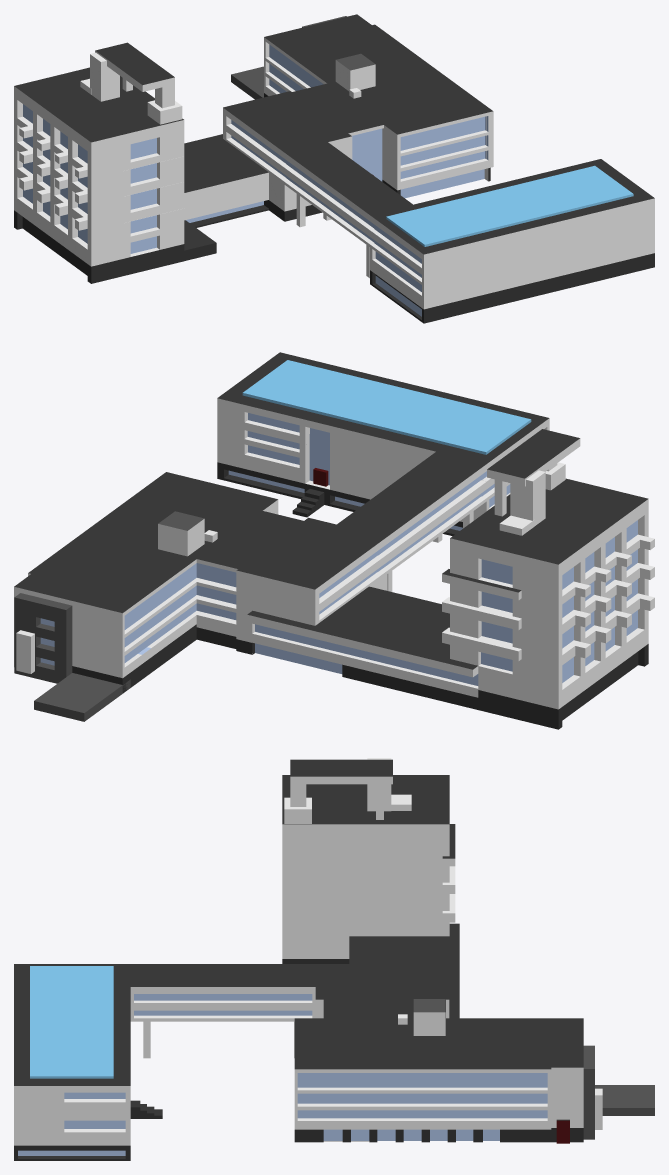
The model's file is bauhaus.glb.
3 views of the same model, one above another, from view 1: azimuth 30°, elevation 25°; view 2: azimuth 150°, elevation 25°; view 3: azimuth 270°, elevation 25° (orthographic). The views are drawn at different scales.
Parts seen in each view (by area): view 1: Cube.024, Cube.025; view 2: Cube.024; view 3: Cube.024, Cube.025.
Boxes of the visible parts, box(x1,y1,x2,y2) form: Cube.024: box(14, 14, 654, 323); Cube.025: box(147, 100, 182, 124); Cube.024: box(14, 352, 654, 729); Cube.024: box(14, 758, 654, 1160); Cube.025: box(284, 797, 311, 823).
Size of the model in its own units: 13.6 by 5.29 by 15.53.
